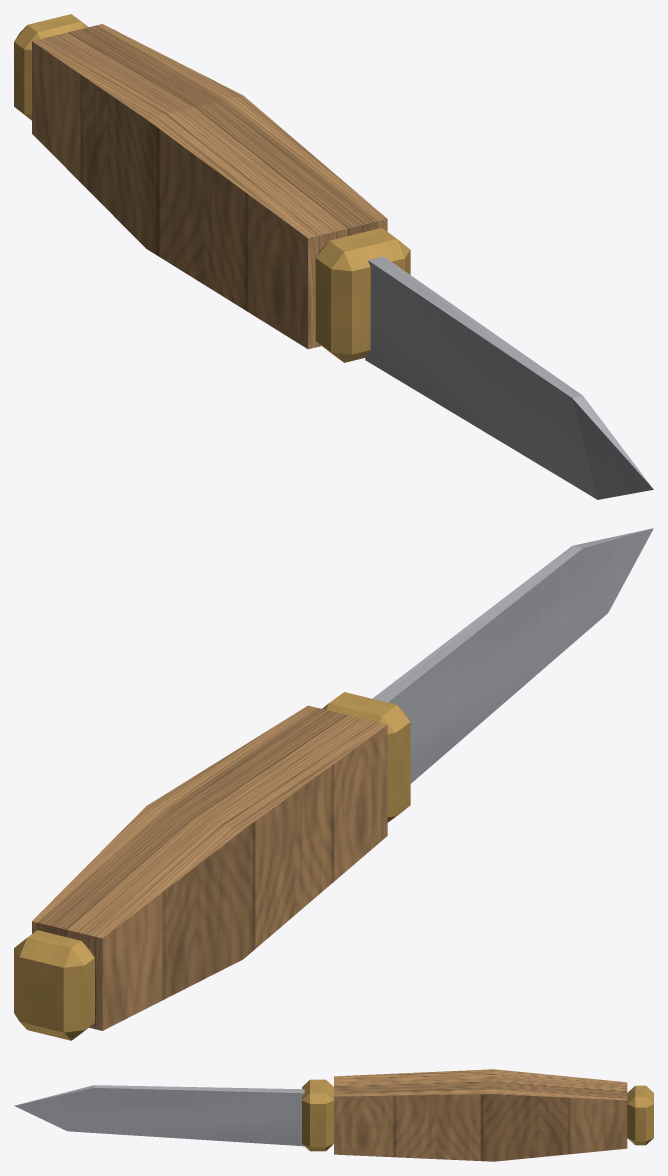
File: OB_Noz.fbx
3 views of the same model, one above another, from view 1: azimuth 30°, elevation 25°; view 2: azimuth 150°, elevation 25°; view 3: azimuth 270°, elevation 25° (orthographic). The views are drawn at different scales.
Parts seen in each view (by area): view 1: Bron; view 2: Bron; view 3: Bron.
Boxes of the visible parts, box(x1,y1,x2,y2) form: Bron: box(14, 14, 653, 499); Bron: box(14, 528, 653, 1040); Bron: box(14, 1069, 653, 1161).
Bounding box in the file's own units: 0.022 × 0.028 × 0.24.
